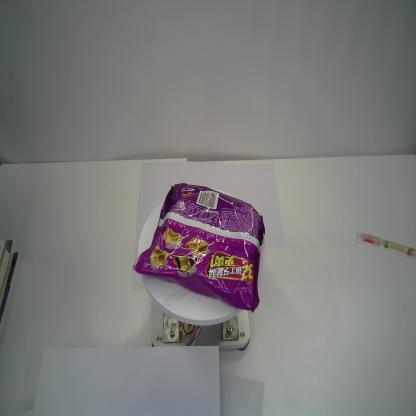Instant Noodles: (132, 182, 266, 312)
